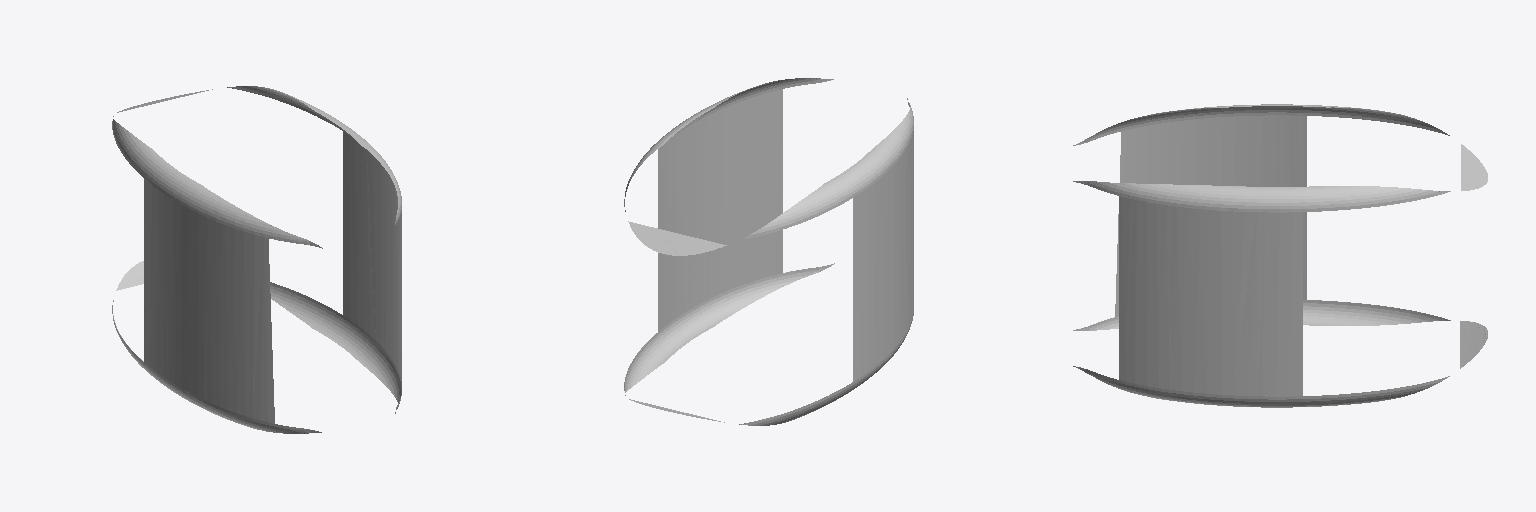
Rendered from test_caudier.obj.
3 renders of one model, left to right at view 1: azimuth 30°, elevation 25°; view 2: azimuth 150°, elevation 25°; view 3: azimuth 270°, elevation 25°, orthographic.
Visible parts, largest first — view 1: default; view 2: default; view 3: default.
Part boxes in pixels (x1,y1,x2,y2): default: (112,86,401,433); default: (624,78,913,425); default: (1073,104,1487,407).
Bounding box in the file's own units: 0.2362 × 0.248 × 0.4281.